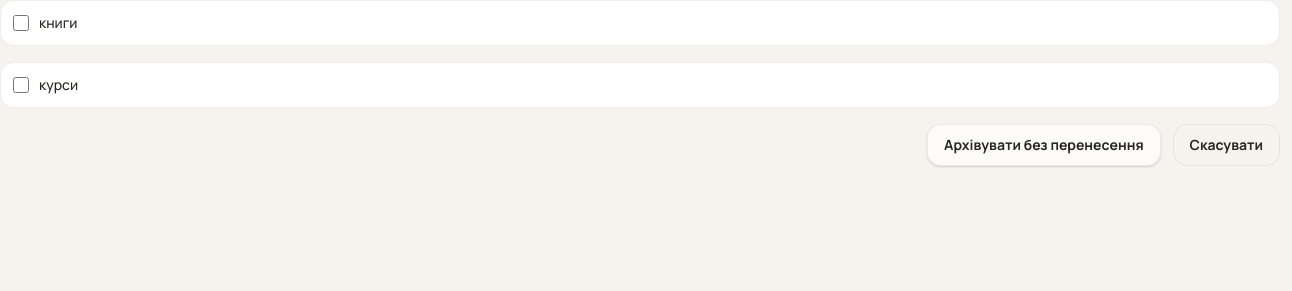
Test case: CH-06 п.2/3: чекбокс -> вибір картки-цілі -> "Перенести" зʼявляється лише після вибору й переносить ОДРАЗУ
Step 1. Click the checkbox named "Перенести" next to "курси" → (21, 85), box [13,77,29,93]
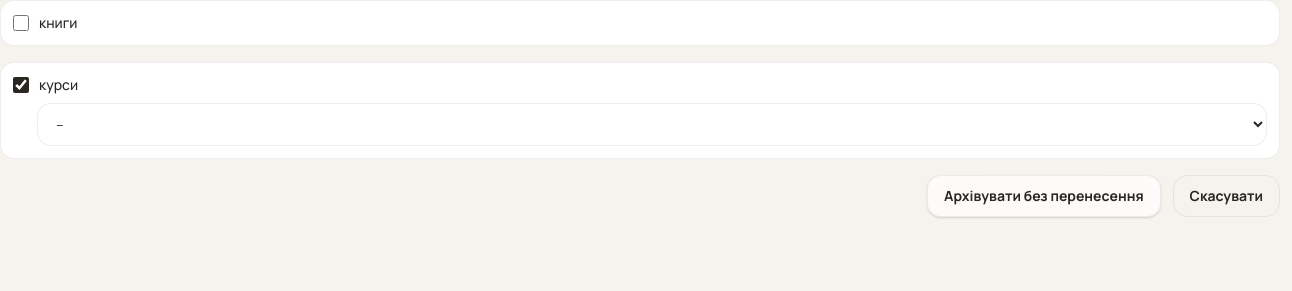
Expected: the button "Перенести" is not shown
Step 2. Select "Навчання" in the dropdown → (652, 124), box [37,103,1267,146]
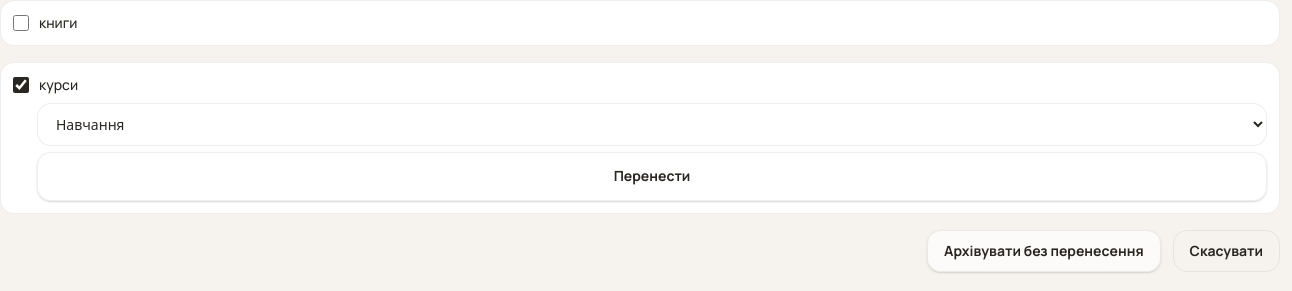
Expected: the button "Перенести" is shown
Step 3. Click the button "Перенести" → (652, 176), box [37,152,1267,201]
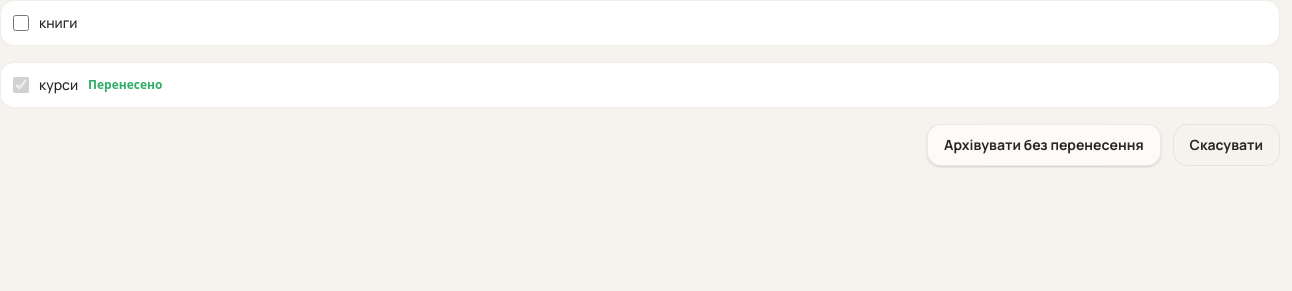
Expected: the text "Перенесено" is shown, [88,77,162,93]
